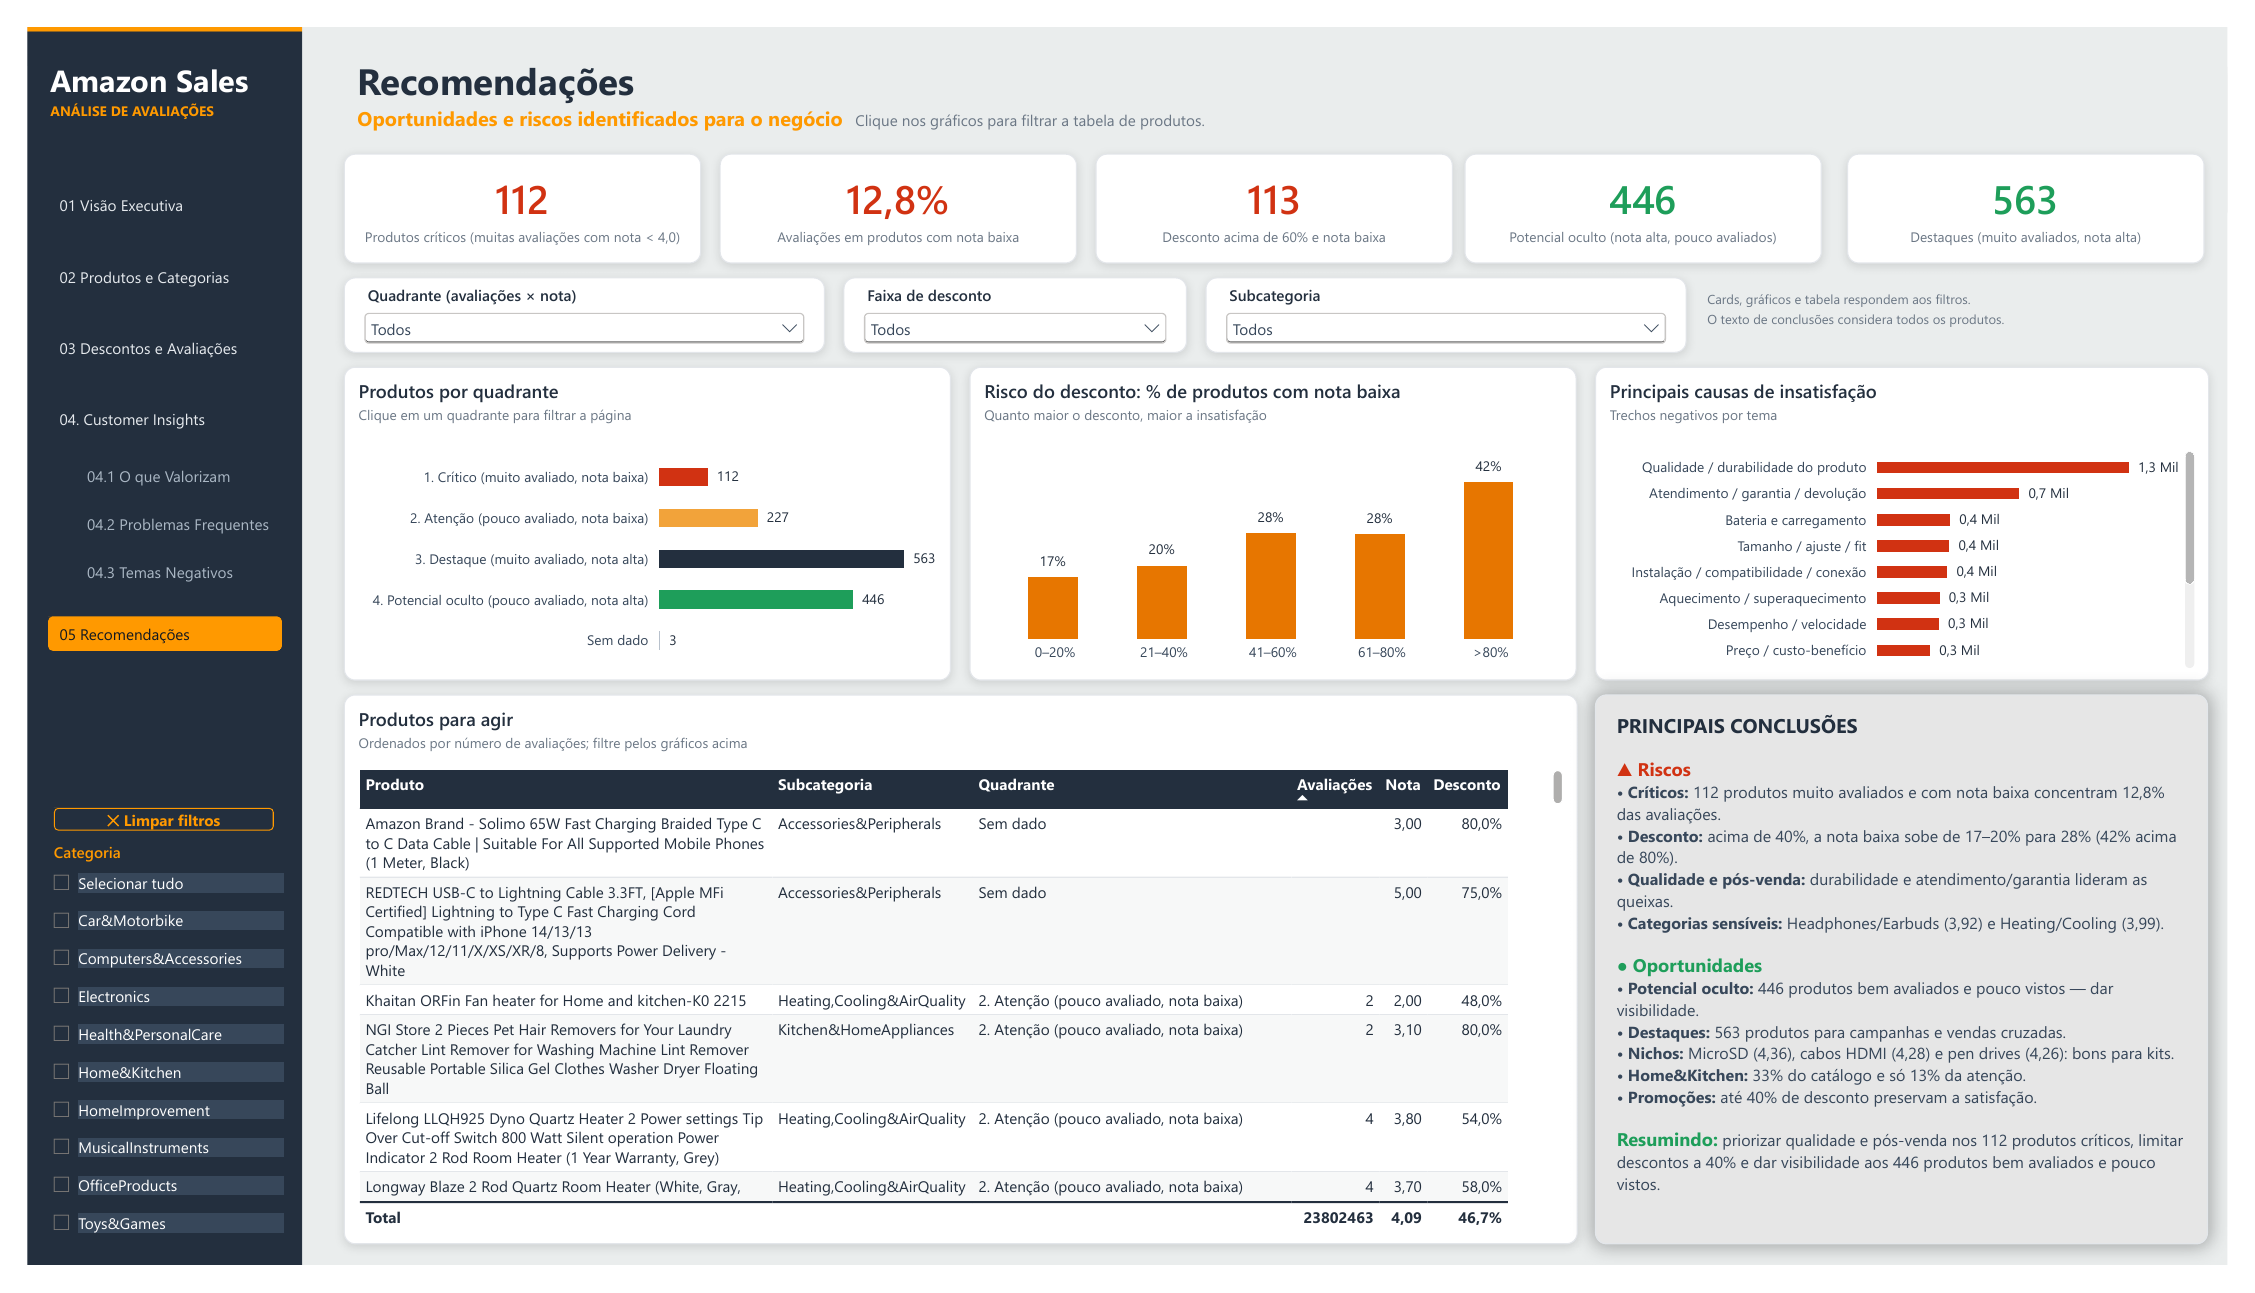

This screenshot's page, from the dashboard's own definition file:
{"tool":"powerbi","page":{"name":"05 Recomendações","canvas":[1920,1080],"ordinal":6},"visuals":[{"type":"textbox","box":[0,0,240,110],"z":0},{"type":"textbox","box":[276,14,1600,92],"z":1000},{"type":"card","fields":{"Values":["Medidas_BU.Nº Produtos Críticos BU"]},"box":[276,110,312,96],"z":2000},{"type":"actionButton","box":[6,130,228,50],"z":3000},{"type":"card","fields":{"Values":["Medidas_BU.% Avaliações em Risco BU"]},"box":[604,110,312,96],"z":4000},{"type":"card","fields":{"Values":["Medidas_BU.Nº Desconto Alto Nota Baixa BU"]},"box":[932,110,312,96],"z":5000},{"type":"card","fields":{"Values":["Medidas_BU.Nº Potencial Oculto BU"]},"box":[1254.4,110,312,96],"z":6000},{"type":"card","fields":{"Values":["Medidas_BU.Nº Destaque BU"]},"box":[1588,110,312,96],"z":7000},{"type":"actionButton","box":[6,192,228,50],"z":8000},{"type":"slicer","fields":{"Values":["BU_dProdutos.faixa_desconto"]},"box":[712,218,300,66],"z":9000},{"type":"slicer","fields":{"Values":["BU_dProdutos.quadrante"]},"box":[276,218,420,66],"z":10000},{"type":"slicer","fields":{"Values":["BU_dProdutos.categoria_n2_grupo"]},"box":[1028,218,420,66],"z":11000},{"type":"textbox","box":[1453.7,218.1,446.9,65.2],"z":12000},{"type":"clusteredBarChart","title":"Produtos por quadrante","fields":{"Category":["BU_dProdutos.quadrante"],"Y":["Medidas_BU.Nº Produtos BU"]},"box":[275.6,295.6,530,274],"z":13000},{"type":"actionButton","box":[6,254,228,50],"z":14000},{"type":"clusteredColumnChart","title":"Risco do desconto: % de produtos com nota baixa","fields":{"Category":["BU_dProdutos.faixa_desconto"],"Y":["Medidas_BU.% Nota Baixa BU"]},"box":[822,296,530,274],"z":15000},{"type":"clusteredBarChart","title":"Principais causas de insatisfação","fields":{"Category":["BR_Temas_Negativos_Produto.tema"],"Y":["Medidas_BU.Trechos Negativos por Tema BU"]},"box":[1368,296,536,274],"z":16000},{"type":"tableEx","title":"Produtos para agir","fields":{"Values":["BU_dProdutos.product_name","BU_dProdutos.categoria_n2_grupo","BU_dProdutos.quadrante","Medidas_BU.Total Avaliações BU","Medidas_BU.Nota Média BU","Medidas_BU.Desconto Médio BU"]},"box":[276.2,582,1076.2,480],"z":17000},{"type":"actionButton","box":[6,504,228,50],"z":18000},{"type":"textbox","box":[1367.8,582,535.6,480],"z":19000},{"type":"actionButton","box":[6,316,228,50],"z":20000},{"type":"actionButton","box":[30,372,198,38],"z":21000},{"type":"slicer","fields":{"Values":["BU_dProdutos.categoria_n1"]},"box":[11.2,711.2,217.1,351.4],"z":22000},{"type":"actionButton","box":[11.2,671.2,216,40],"z":23000},{"type":"actionButton","box":[30,414,198,38],"z":24000},{"type":"actionButton","box":[30,456,198,38],"z":25000}]}

Visuals, with their boxes on the page's 1920x1080 design canvas (x1, y1, x2, y2). These are canvas units, not pixel positions in the 2255x1293 screenshot, which may show the page scaled, cropped or inside an application window:
textbox: 0/0/240/110
textbox: 276/14/1876/106
card - Medidas_BU.Nº Produtos Críticos BU: 276/110/588/206
actionButton: 6/130/234/180
card - Medidas_BU.% Avaliações em Risco BU: 604/110/916/206
card - Medidas_BU.Nº Desconto Alto Nota Baixa BU: 932/110/1244/206
card - Medidas_BU.Nº Potencial Oculto BU: 1254/110/1566/206
card - Medidas_BU.Nº Destaque BU: 1588/110/1900/206
actionButton: 6/192/234/242
slicer - BU_dProdutos.faixa_desconto: 712/218/1012/284
slicer - BU_dProdutos.quadrante: 276/218/696/284
slicer - BU_dProdutos.categoria_n2_grupo: 1028/218/1448/284
textbox: 1454/218/1901/283
"Produtos por quadrante" clusteredBarChart: 276/296/806/570
actionButton: 6/254/234/304
"Risco do desconto: % de produtos com nota baixa" clusteredColumnChart: 822/296/1352/570
"Principais causas de insatisfação" clusteredBarChart: 1368/296/1904/570
"Produtos para agir" tableEx: 276/582/1352/1062
actionButton: 6/504/234/554
textbox: 1368/582/1903/1062
actionButton: 6/316/234/366
actionButton: 30/372/228/410
slicer - BU_dProdutos.categoria_n1: 11/711/228/1063
actionButton: 11/671/227/711
actionButton: 30/414/228/452
actionButton: 30/456/228/494
